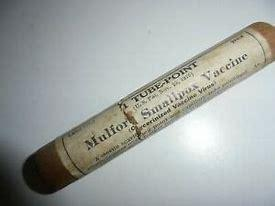Syringe: (16, 19, 275, 202)
